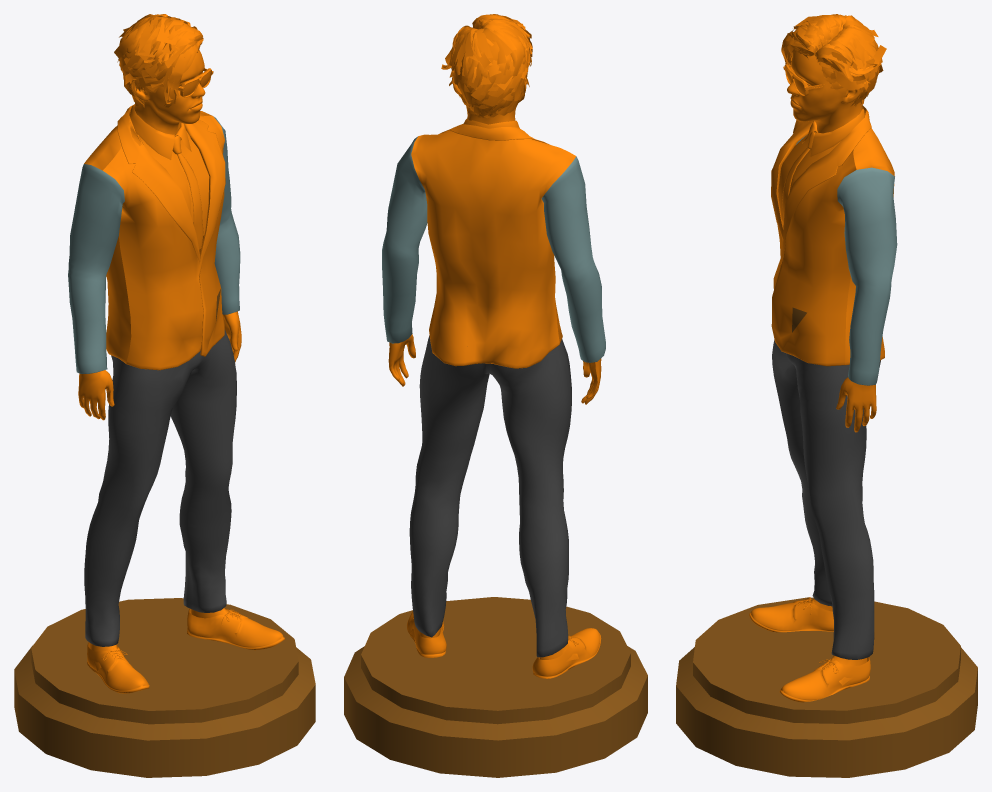
Rendered from character_test.fbx.
The picture shows the model from 3 angles, left to right: view 1: azimuth 30°, elevation 25°; view 2: azimuth 150°, elevation 25°; view 3: azimuth 270°, elevation 25°; orthographic projection.
Visible parts, largest first — view 1: Tongue_Mesh; view 2: Tongue_Mesh; view 3: Tongue_Mesh.
Boxes of the visible parts, left/top/right/bottom form: Tongue_Mesh: left=14, top=14, right=315, bottom=777; Tongue_Mesh: left=344, top=14, right=647, bottom=777; Tongue_Mesh: left=676, top=14, right=977, bottom=777.
Size of the model in its own units: 84.07 by 215 by 84.07.
